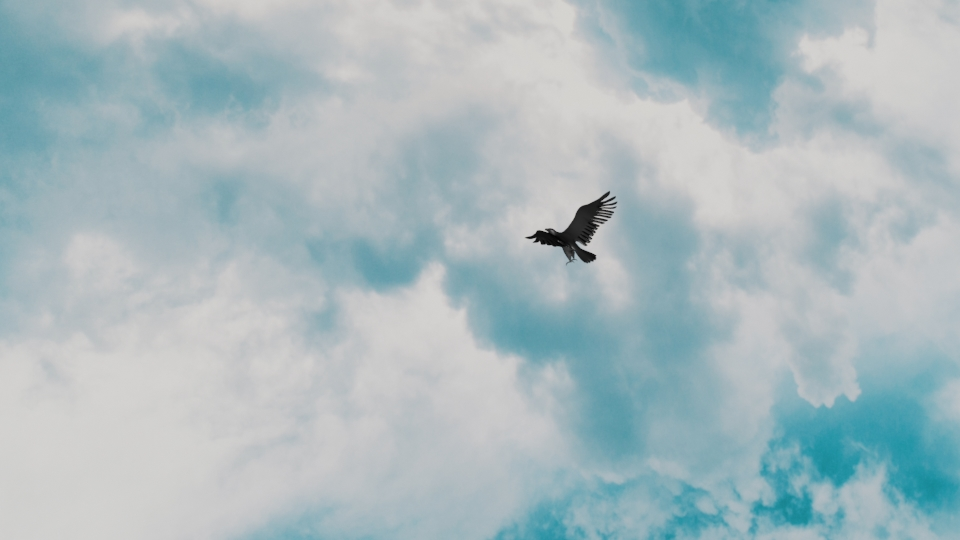bird: (527, 190, 620, 267)
